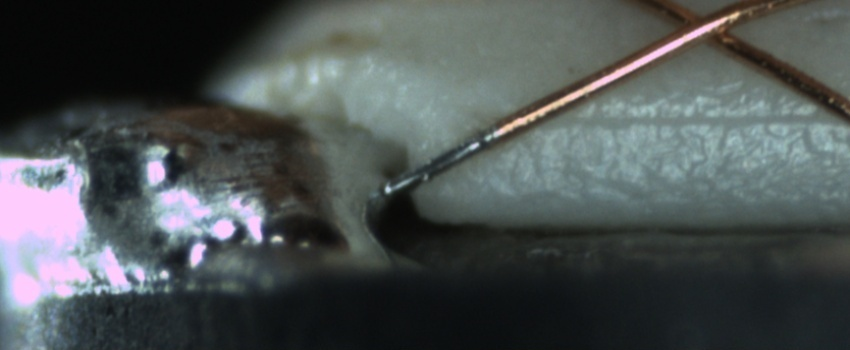CL: (652, 0, 755, 56)
DL: (534, 88, 849, 150)
TS: (383, 127, 500, 199)
TTCW: (376, 117, 515, 200)
